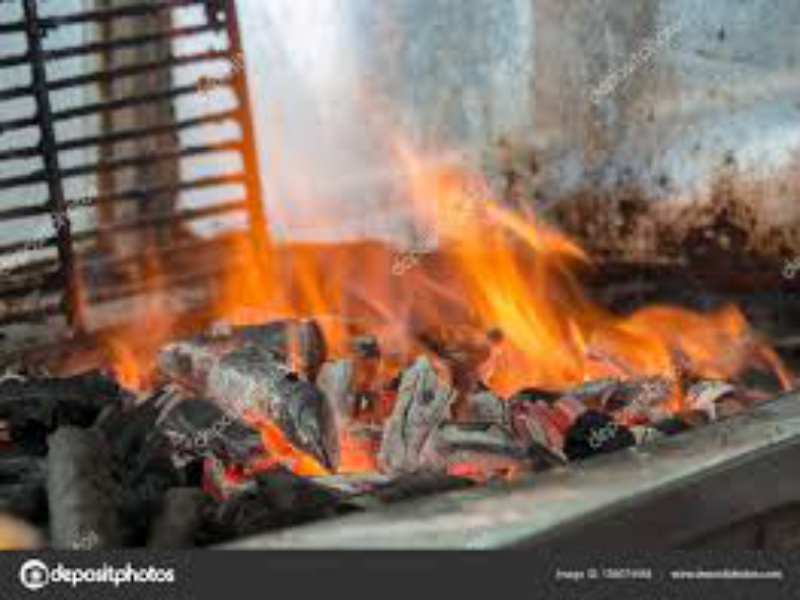fire: (78, 139, 789, 400), (258, 407, 379, 473)
